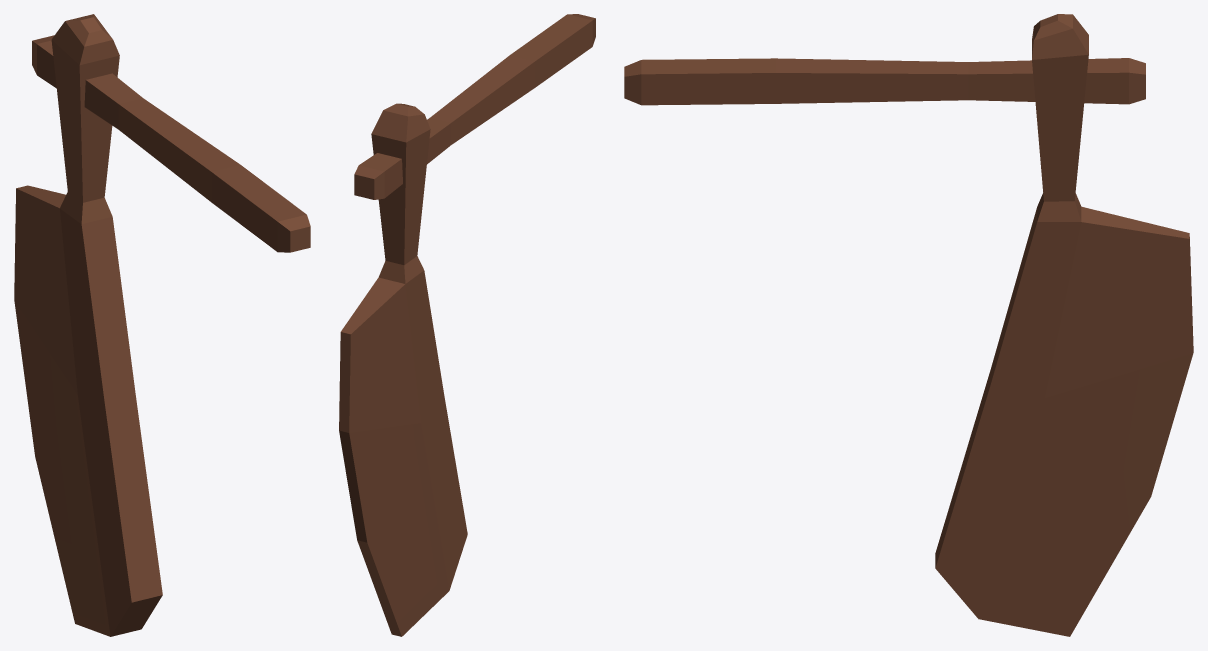
File: Boat_3_Rudder.fbx
3 renders of one model, left to right at view 1: azimuth 30°, elevation 25°; view 2: azimuth 150°, elevation 25°; view 3: azimuth 270°, elevation 25°, orthographic. The views are drawn at different scales.
Parts seen in each view (by area): view 1: Boat_3_Rudder; view 2: Boat_3_Rudder; view 3: Boat_3_Rudder.
Part boxes in pixels (bbox=[...]): Boat_3_Rudder: bbox=[14, 14, 310, 636]; Boat_3_Rudder: bbox=[339, 14, 595, 636]; Boat_3_Rudder: bbox=[624, 14, 1193, 636].
Size of the model in its own units: 10.16 by 147 by 123.
